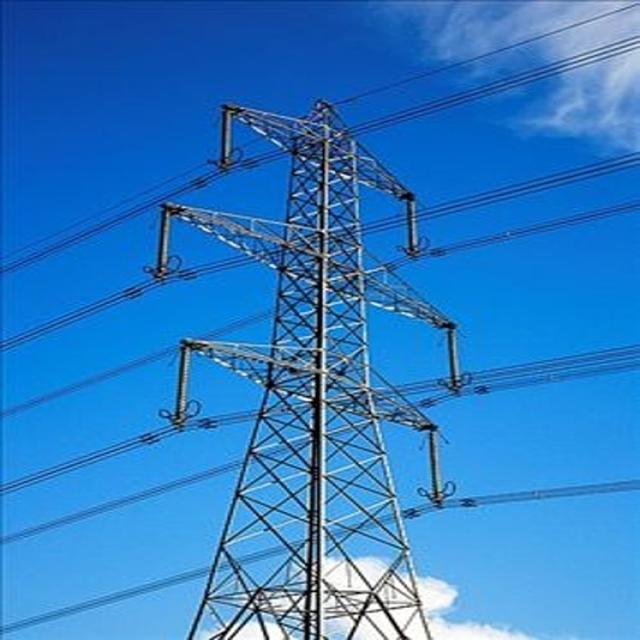non-critical vegetation: (148, 98, 464, 638)
